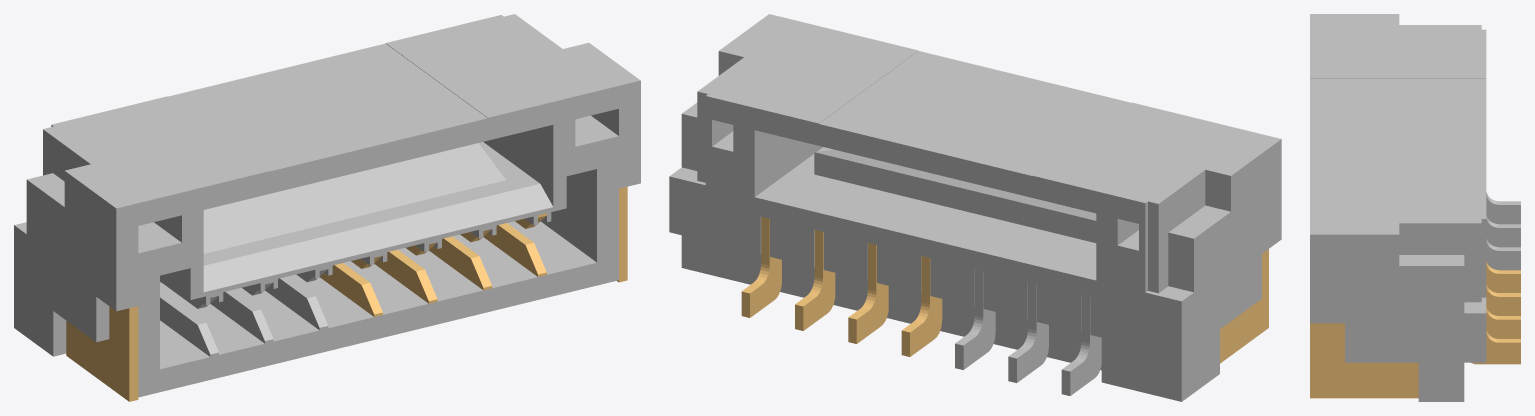
Rendered from SM07B-GHS-TB.obj.
The picture shows the model from 3 angles, left to right: view 1: azimuth 30°, elevation 25°; view 2: azimuth 150°, elevation 25°; view 3: azimuth 270°, elevation 25°; orthographic projection. The views are drawn at different scales.
Parts seen in each view (by area): view 1: SM07B-GHS-TB; view 2: SM07B-GHS-TB; view 3: SM07B-GHS-TB.
Boxes of the visible parts, x1,y1,x2,y2 form: SM07B-GHS-TB: (14, 14, 640, 401); SM07B-GHS-TB: (669, 14, 1281, 401); SM07B-GHS-TB: (1310, 14, 1520, 401).
Size of the model in its own units: 0.0139 by 0.00497 by 0.00561.
